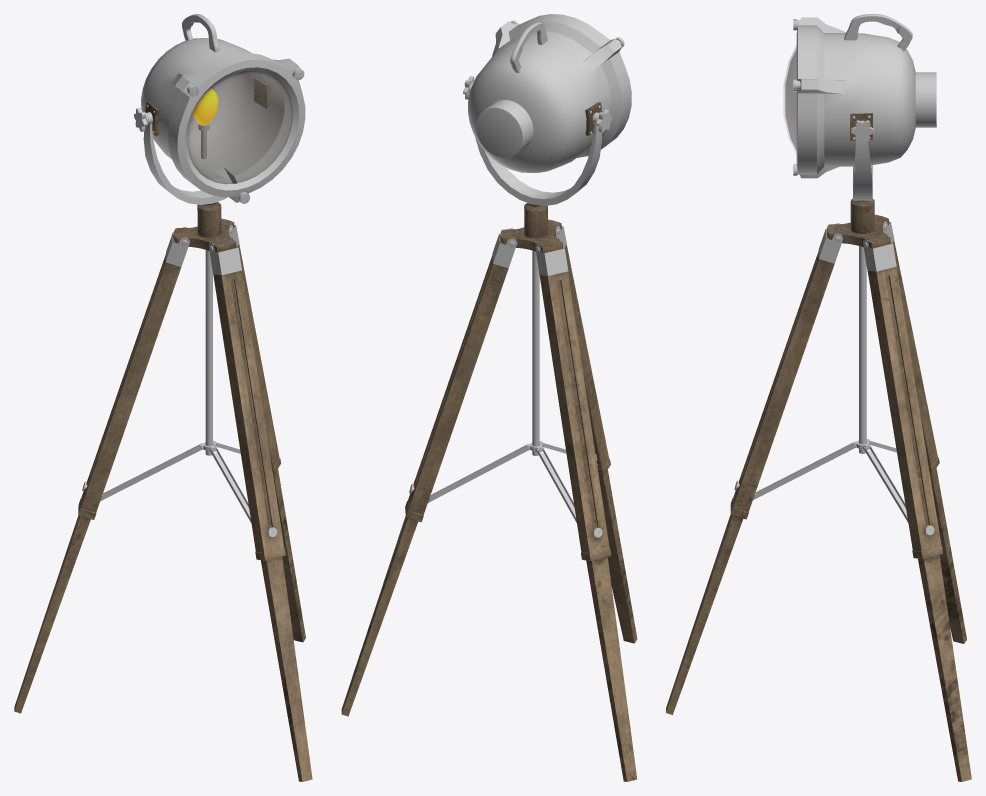
3 views of the same model, side by side, from view 1: azimuth 30°, elevation 25°; view 2: azimuth 150°, elevation 25°; view 3: azimuth 270°, elevation 25° (orthographic).
Visible parts, largest first — view 1: Lamp; view 2: Lamp; view 3: Lamp.
Boxes of the visible parts, bbox=[...] form: Lamp: bbox=[14, 14, 312, 781]; Lamp: bbox=[341, 14, 637, 781]; Lamp: bbox=[666, 14, 971, 781].
Size of the model in its own units: 0.7307 by 1.64 by 0.6521.
